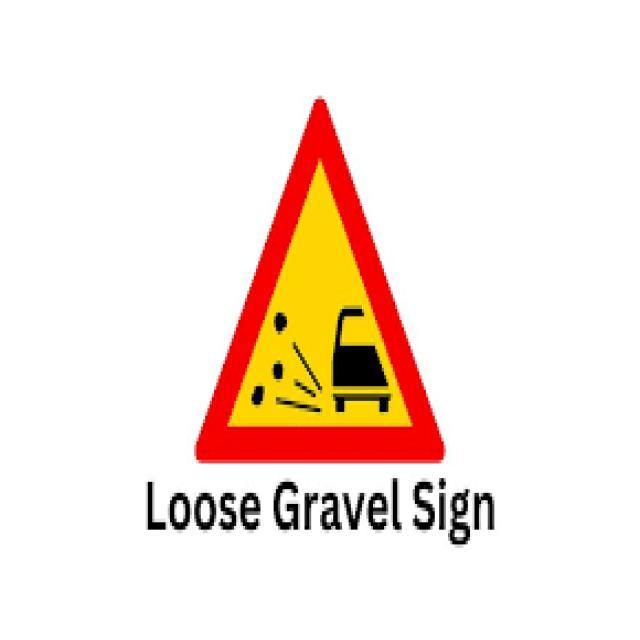loose gravel: (194, 92, 448, 473)
